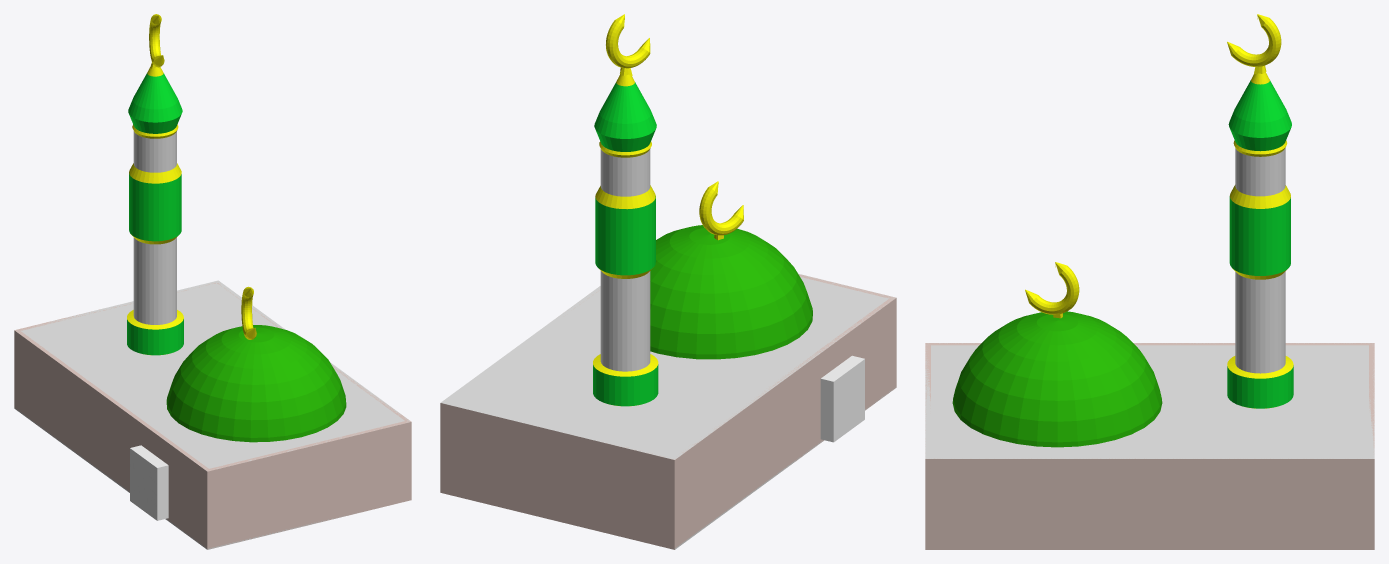
The model's file is remake2.fbx.
3 views of the same model, side by side, from view 1: azimuth 30°, elevation 25°; view 2: azimuth 150°, elevation 25°; view 3: azimuth 270°, elevation 25° (orthographic). The views are drawn at different scales.
Parts seen in each view (by area): view 1: Room, Ceiling.001, Sphere, Cone, CTRL_Hole.002, Torus.001, Torus; view 2: Room, Ceiling.001, Sphere, Cone, CTRL_Hole.002, Torus.001, Torus; view 3: Room, Ceiling.001, Sphere, Cone, Torus.001, Torus.
Part boxes in pixels (x1=…): Room: x1=14, y1=282, x2=411, y2=549; Ceiling.001: x1=21, y1=280, x2=409, y2=471; Sphere: x1=166, y1=325, x2=346, y2=442; Cone: x1=127, y1=66, x2=183, y2=355; CTRL_Hole.002: x1=130, y1=445, x2=168, y2=520; Torus.001: x1=149, y1=14, x2=164, y2=69; Torus: x1=241, y1=286, x2=256, y2=339; Room: x1=440, y1=274, x2=896, y2=549; Ceiling.001: x1=440, y1=274, x2=895, y2=459; Sphere: x1=650, y1=225, x2=812, y2=359; Cone: x1=593, y1=74, x2=658, y2=406; CTRL_Hole.002: x1=820, y1=355, x2=864, y2=442; Torus.001: x1=606, y1=14, x2=650, y2=75; Torus: x1=699, y1=181, x2=743, y2=240; Room: x1=925, y1=343, x2=1374, y2=549; Ceiling.001: x1=925, y1=343, x2=1374, y2=458; Sphere: x1=952, y1=311, x2=1162, y2=447; Cone: x1=1227, y1=72, x2=1293, y2=408; Torus.001: x1=1227, y1=14, x2=1281, y2=74; Torus: x1=1025, y1=262, x2=1079, y2=318.
Bounding box in the file's own units: 1152 × 2079 × 1789.
